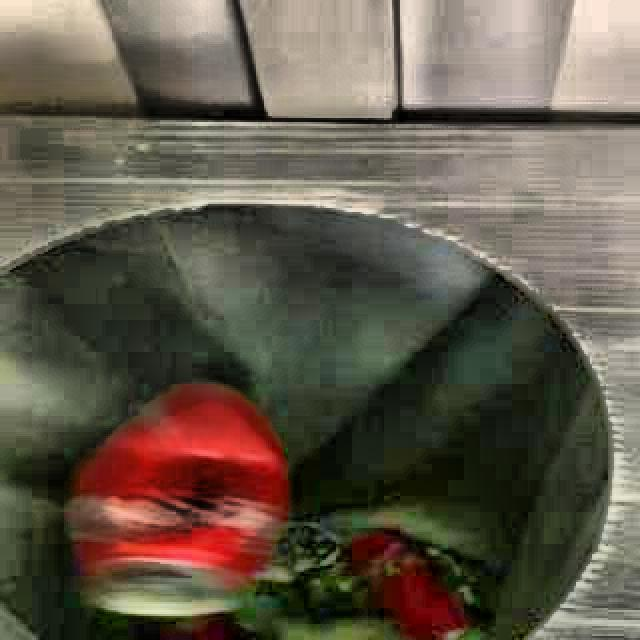metal: (69, 388, 285, 619)
